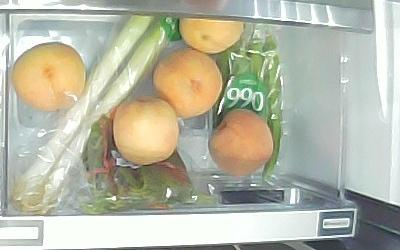peach: (12, 42, 86, 112), (113, 96, 180, 165), (154, 49, 221, 118), (208, 109, 274, 178), (179, 21, 245, 54)
